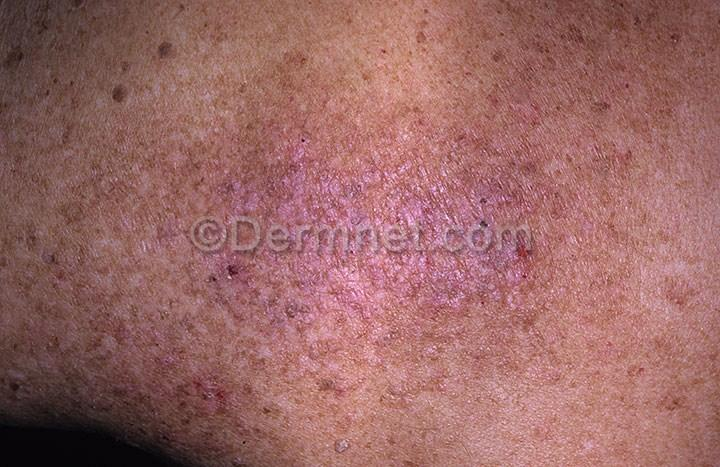Eczema: (201, 255, 533, 421), (184, 113, 549, 221), (36, 153, 193, 382), (541, 132, 685, 360)
